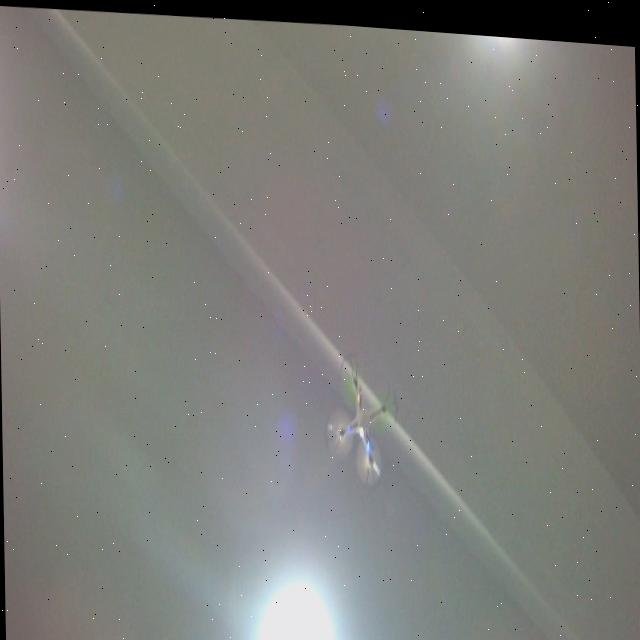drone: (322, 343, 402, 490)
